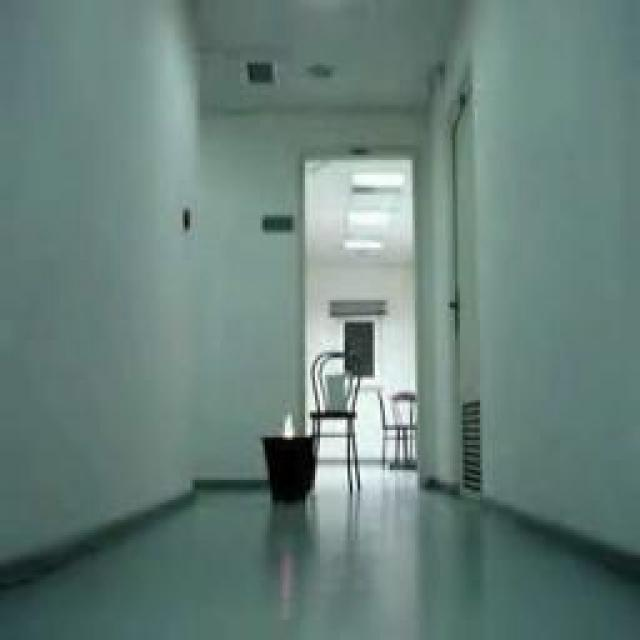fire: (280, 414, 296, 440)
